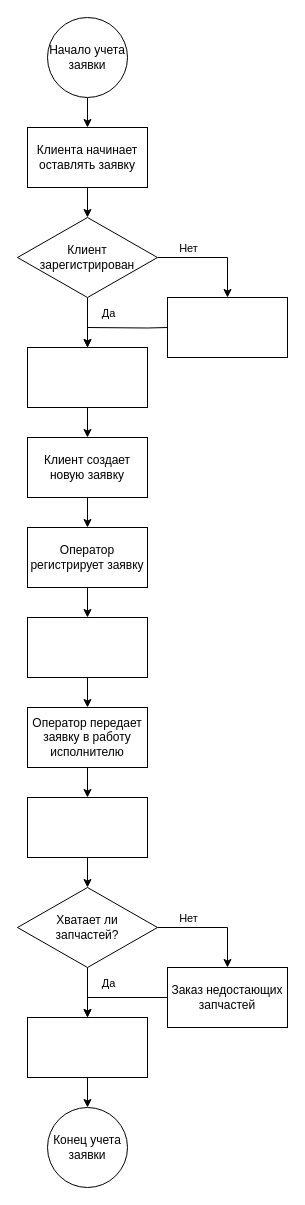
Some shapes in this 305 by 1205 pixel diagram are drawn without their labels. Here are the shapes that lost their labels. From the top down, the centre of each, then its label:
(x=227, y=327): Администратор проводит регистрацию
(x=87, y=377): Клиент проходит авторизацию
(x=87, y=647): Оператор обрабатывает заявку и назначает исполнителя
(x=87, y=827): Исполнитель начинает работу
(x=87, y=1047): Исполнитель завершает работу
